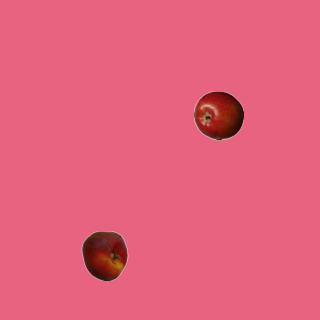Apple Braeburn: (193, 90, 243, 140)
Nectarine Flat: (79, 230, 129, 280)
